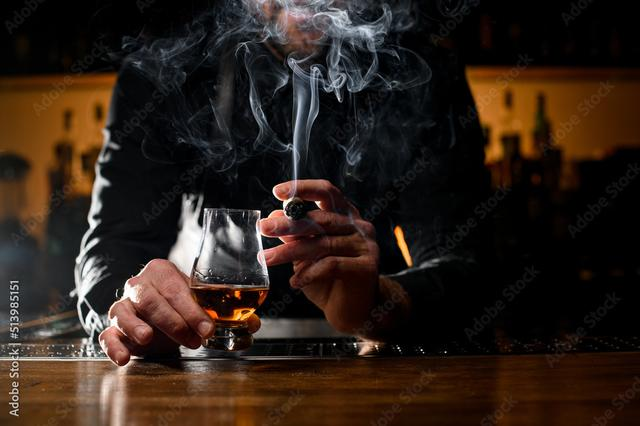Cigar: (282, 56, 321, 220)
